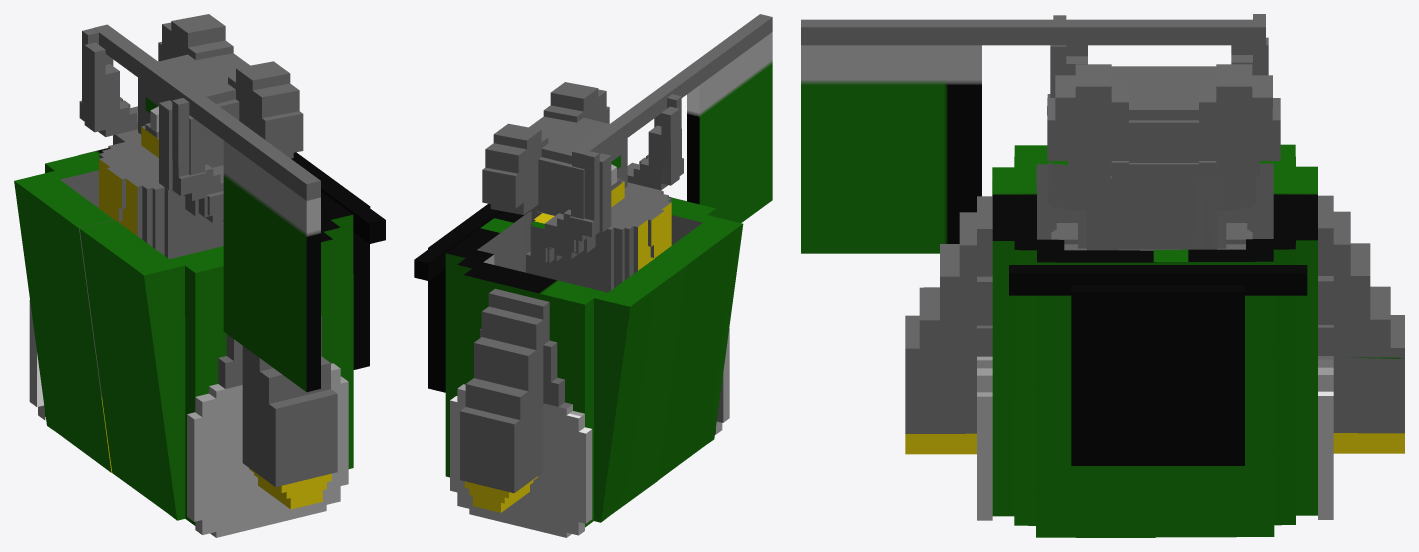
The model's file is koalanew.fbx.
The picture shows the model from 3 angles, left to right: view 1: azimuth 30°, elevation 25°; view 2: azimuth 150°, elevation 25°; view 3: azimuth 270°, elevation 25°; orthographic projection. The views are drawn at different scales.
Visible parts, largest first — view 1: polySurface12, polySurface7, polySurface11, polySurface5, polySurface9, polySurface10, polySurface2; view 2: polySurface11, polySurface7, polySurface12, polySurface5, polySurface9, polySurface2, polySurface10; view 3: polySurface12, polySurface11, polySurface7, polySurface2, polySurface5, polySurface9, polySurface10.
Part boxes in pixels (x1,y1,x2,y2): polySurface12: (79,191,353,537); polySurface7: (79,24,320,392); polySurface11: (14,148,113,472); polySurface5: (138,14,303,167); polySurface9: (99,129,223,259); polySurface10: (159,98,223,200); polySurface2: (291,152,385,369); polySurface11: (445,218,687,537); polySurface7: (544,14,772,241); polySurface12: (493,197,743,480); polySurface5: (482,82,627,215); polySurface9: (526,182,671,292); polySurface2: (414,203,502,392); polySurface10: (627,94,683,190); polySurface12: (905,145,1156,537); polySurface11: (1153,144,1404,537); polySurface7: (801,14,1268,253); polySurface2: (1009,265,1307,465); polySurface5: (1047,64,1280,181); polySurface9: (1048,161,1256,250); polySurface10: (1047,15,1087,115).
Size of the model in its own units: 7.33 by 11.35 by 13.91.
